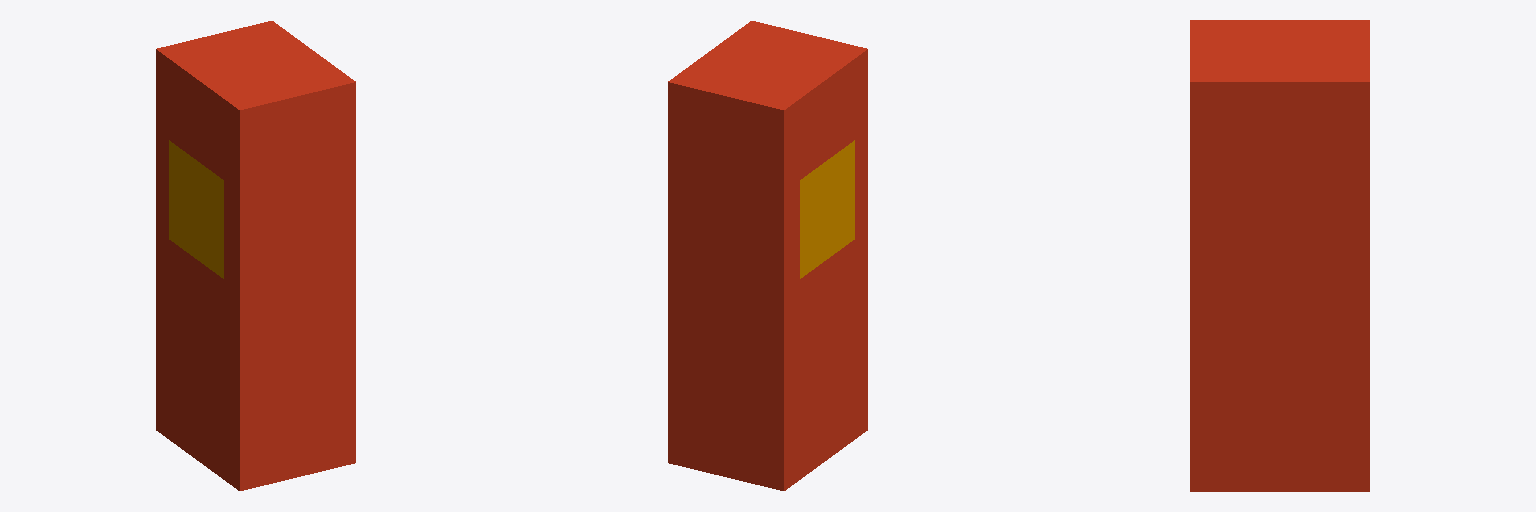
URDF robot description (marker_target):
<?xml version="1.0"?>
<robot name="marker_target">
  <link name="target">
    <inertial>
      <mass value="1"/>
      <inertia ixx="0.0241666667" iyy="0.0229666667" izz="0.0054666667" ixy="0" ixz="0" iyz="0"/>
    </inertial>
    <visual>
      <geometry><box size="0.16 0.20 0.50"/></geometry>
      <material name="red"><color rgba="0.85 0.28 0.16 1"/></material>
    </visual>
    <visual>
      <geometry><mesh filename="marker.obj"/></geometry>
    </visual>
    <collision><geometry><box size="0.16 0.20 0.50"/></geometry></collision>
  </link>
</robot>

--- Render facts (derived) ---
The picture shows the robot from 3 angles, left to right: view 1: azimuth 30°, elevation 25°; view 2: azimuth 150°, elevation 25°; view 3: azimuth 270°, elevation 25°; orthographic projection.
Model marker_target with 1 links and 0 joints (none), rooted at target, posed every joint at zero.
Visible links, largest first — view 1: target; view 2: target; view 3: target.
Boxes of the visible links, x1=… form: target: x1=156, y1=21, x2=355, y2=490; target: x1=668, y1=21, x2=867, y2=490; target: x1=1190, y1=20, x2=1369, y2=491.
Bounding box of the posed robot: 0.162 × 0.2 × 0.5 m (x, y, z).
1 mesh visuals loaded from 1 distinct referenced files (1 OBJ).
